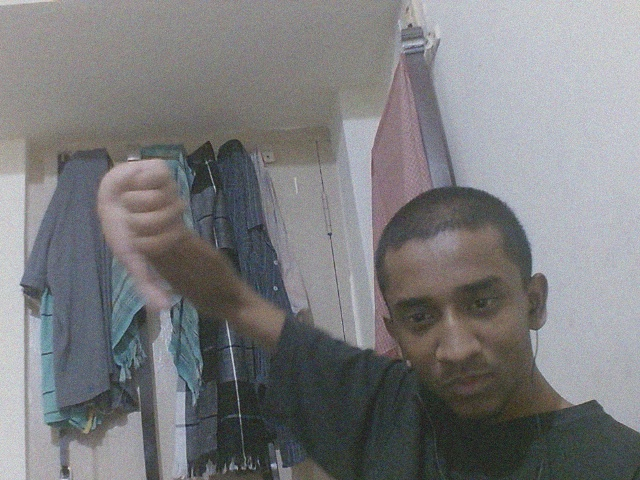hand: (91, 157, 196, 315)
